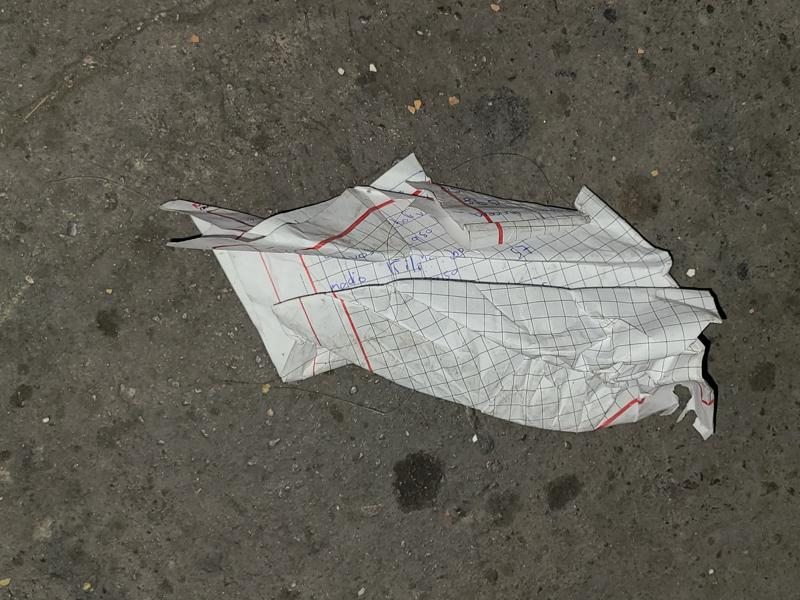papel: (164, 155, 725, 437)
